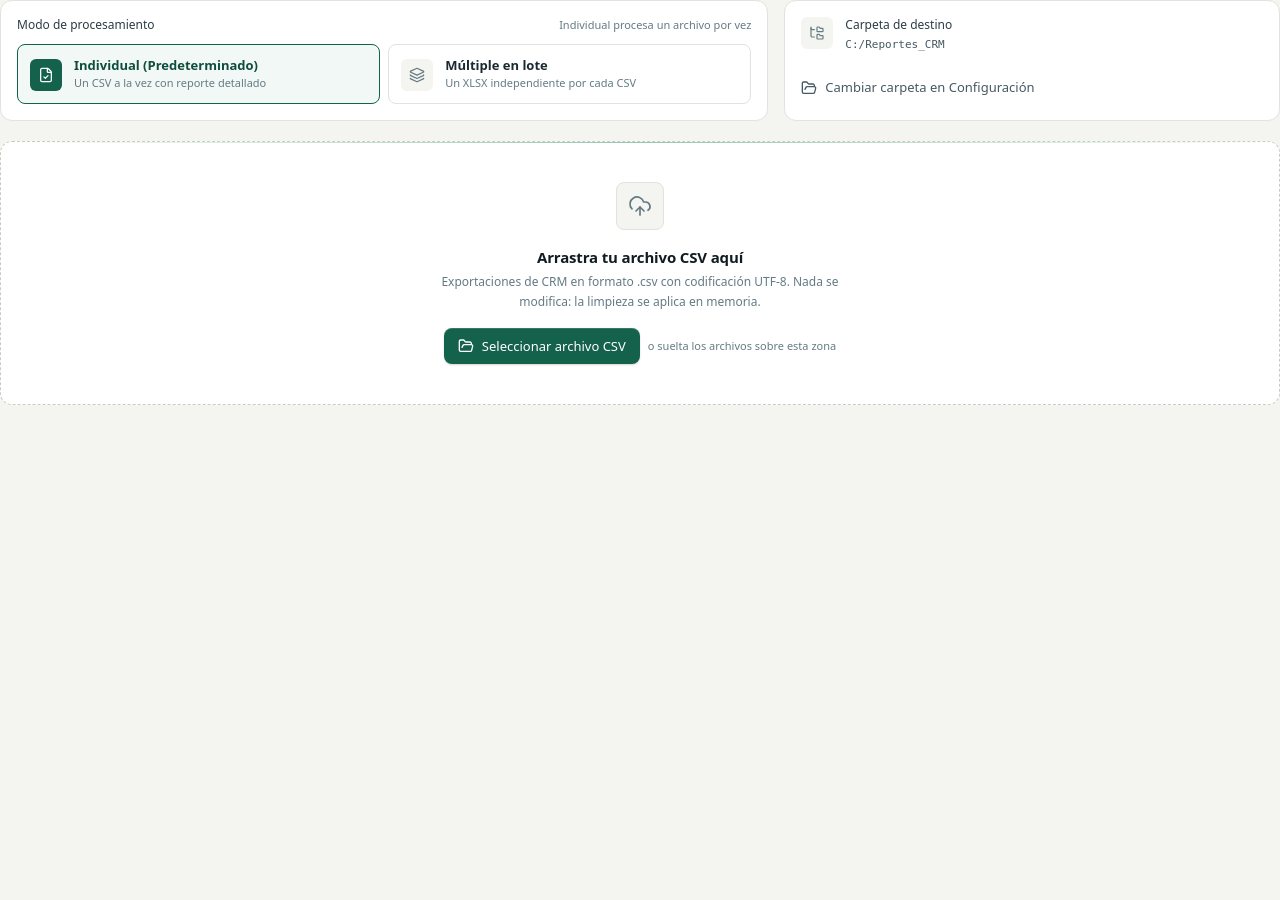
Scenario: HomeScreen (Phase 4 Import and Modes) › removes files individually and allows clearing all
This screenshot has width=1280, height=900.
# Switch to multiple mode first
Click the button "Múltiple en lote Un XLSX independiente por cada CSV".
click(570, 74)  # box x1=388 y1=44 x2=751 y2=104
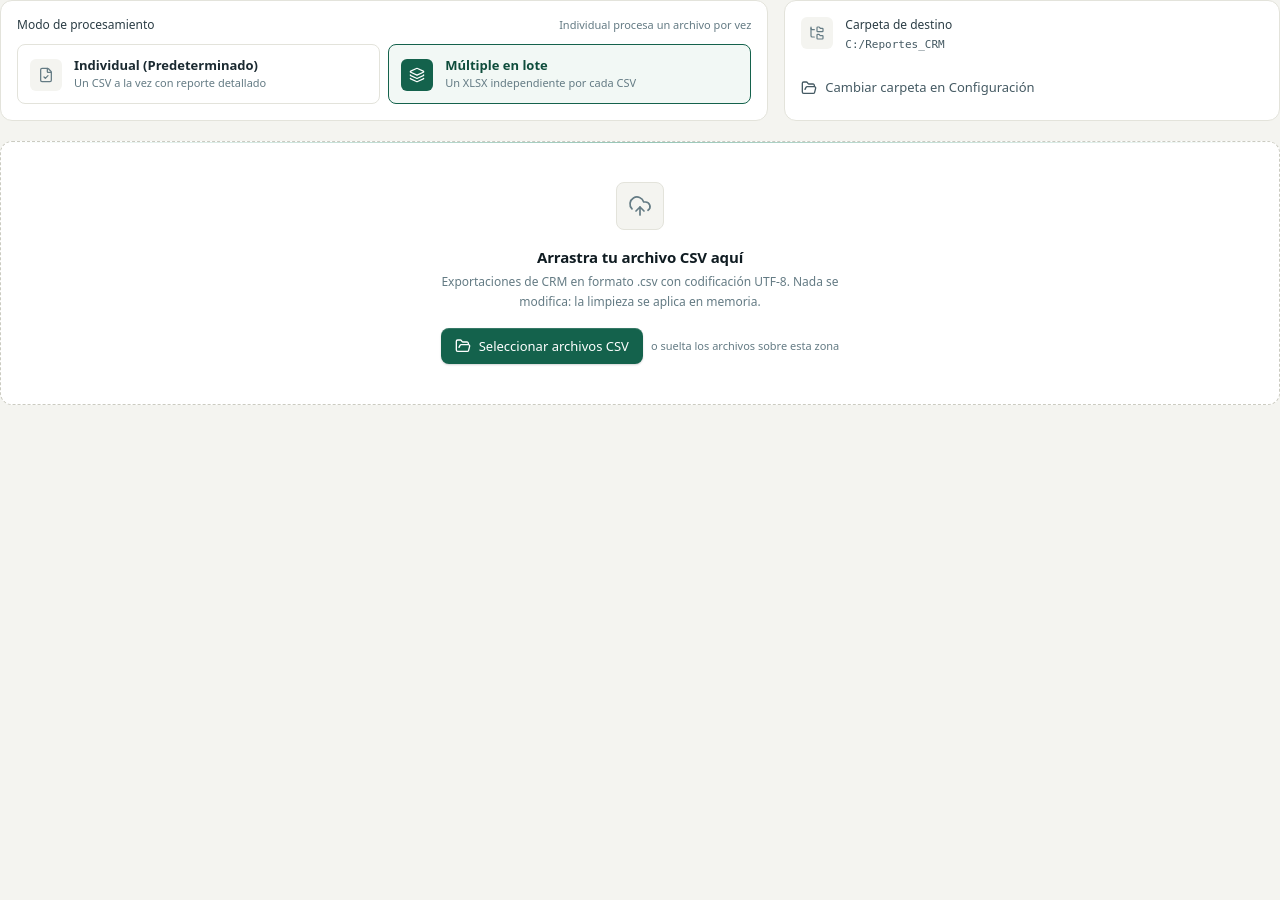
Click the button "Seleccionar archivos CSV".
click(542, 346)  # box x1=441 y1=328 x2=643 y2=364
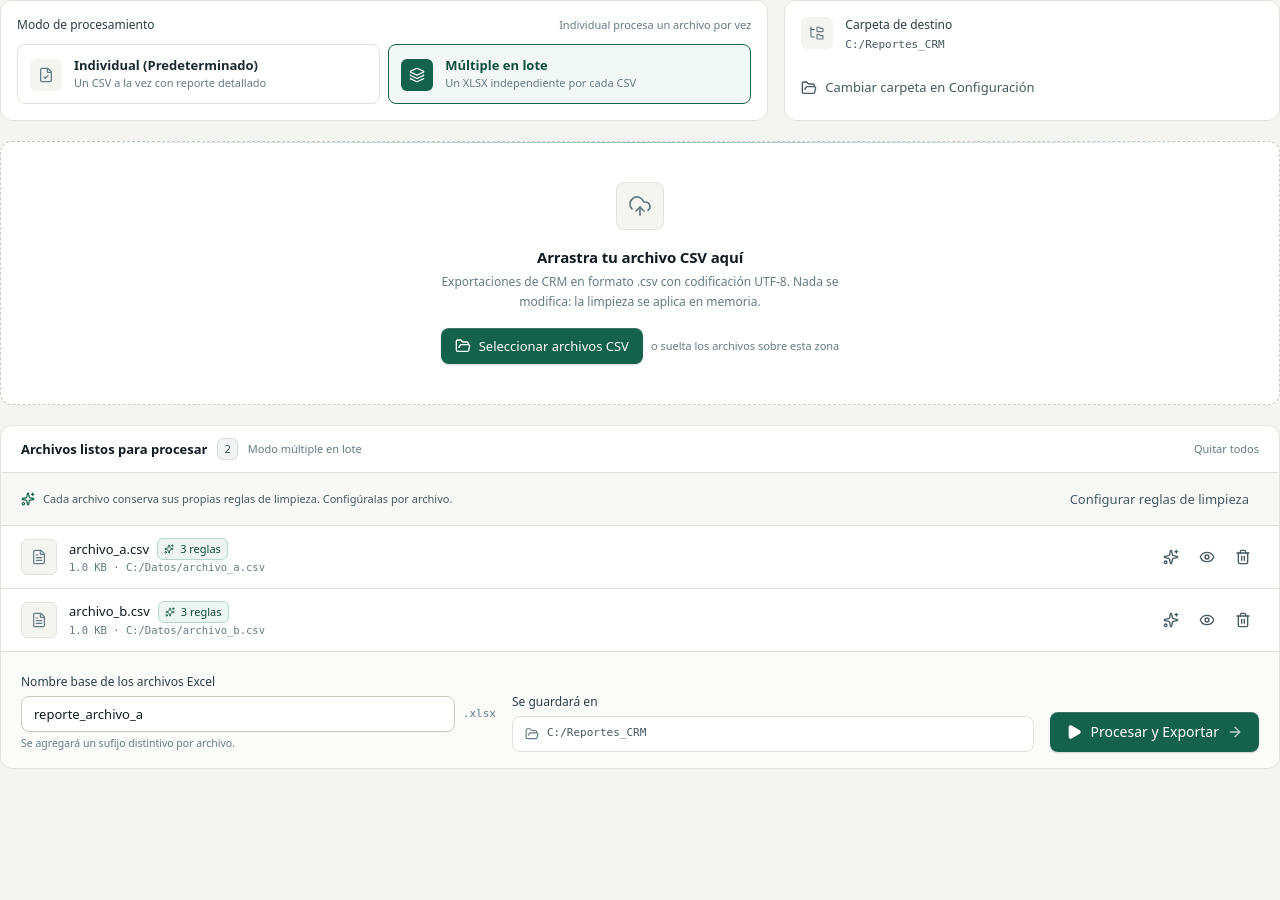
Check: the text "archivo_a.csv" is shown, box x1=69 y1=540 x2=149 y2=559
Check: the text "archivo_b.csv" is shown, box x1=69 y1=602 x2=150 y2=622
# Remove first file
Click the button titled "Quitar archivo".
click(1243, 557)  # box x1=1227 y1=541 x2=1259 y2=573
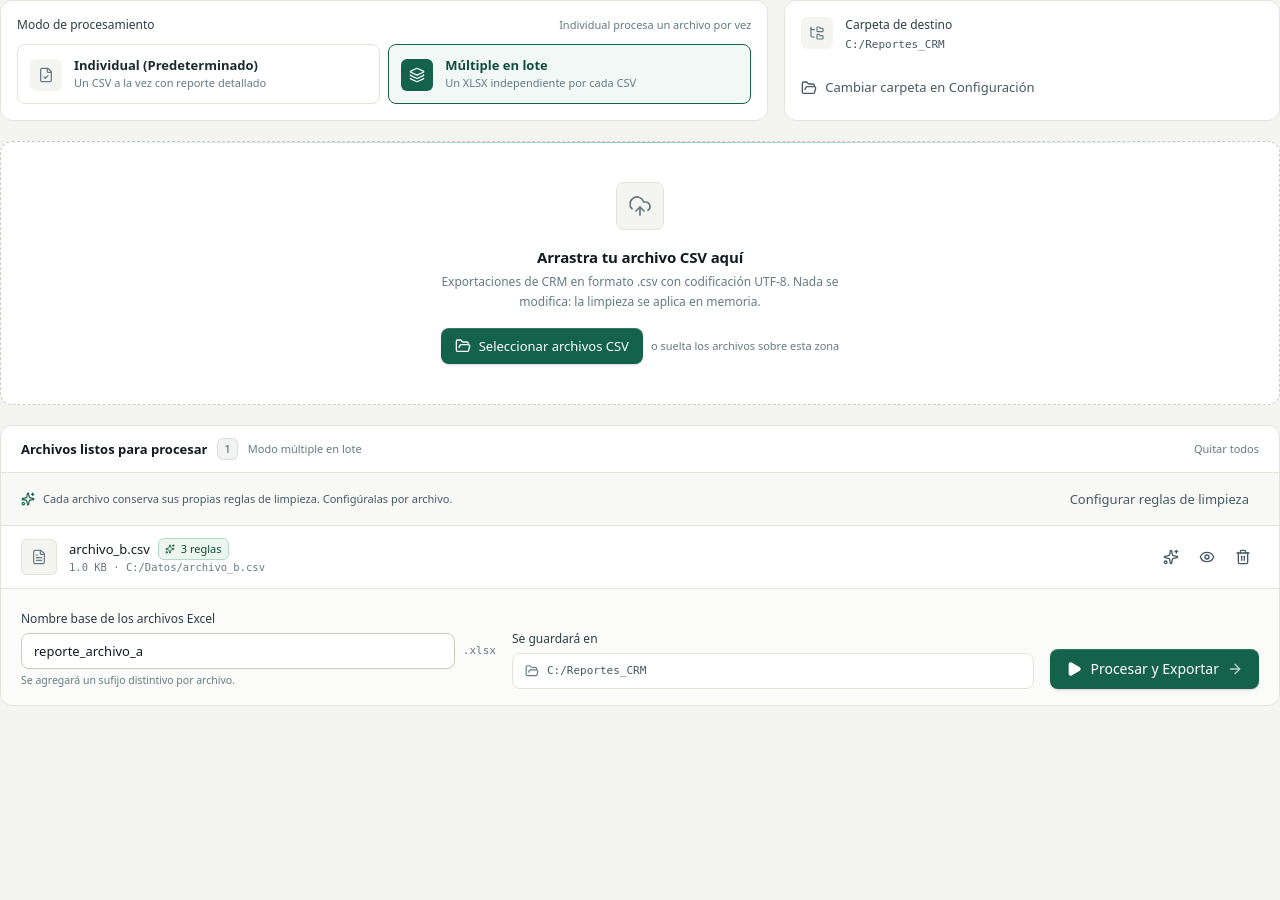
Check: the text "archivo_b.csv" is shown, box x1=69 y1=540 x2=150 y2=559
Check: the text "archivo_a.csv" is gone
# Clear all
Click the button "Quitar todos".
click(1226, 449)  # box x1=1194 y1=441 x2=1259 y2=458
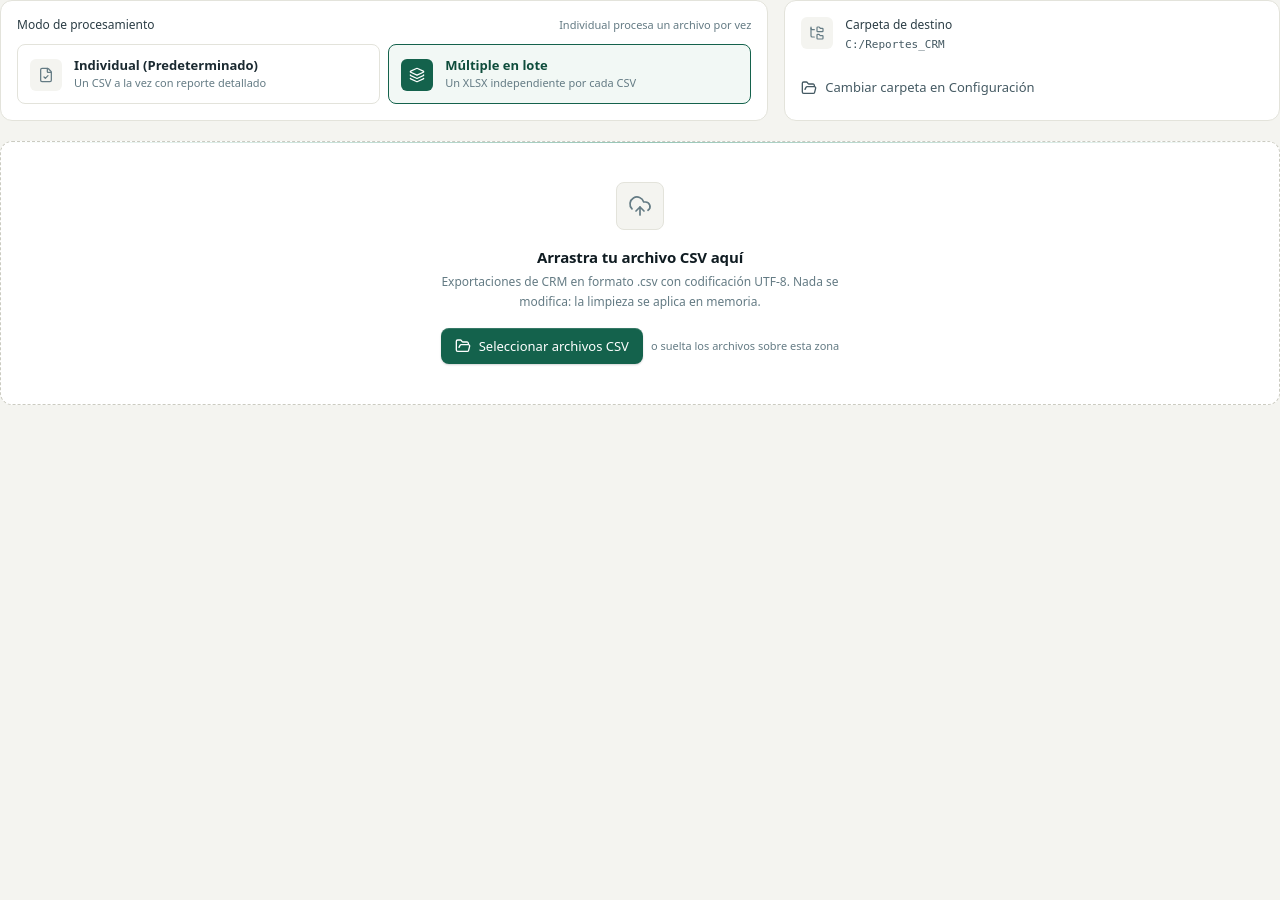
Check: the text "archivo_b.csv" is gone
